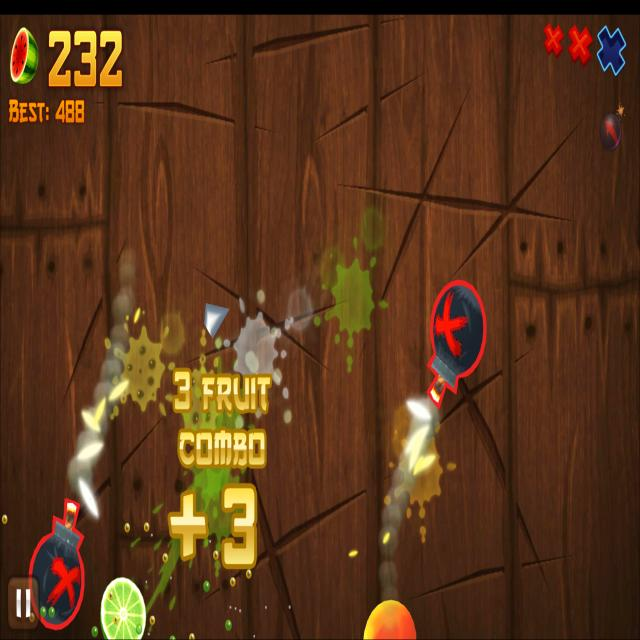bomb: (426, 279, 486, 412), (27, 497, 84, 630)
fruit: (362, 598, 418, 640)
